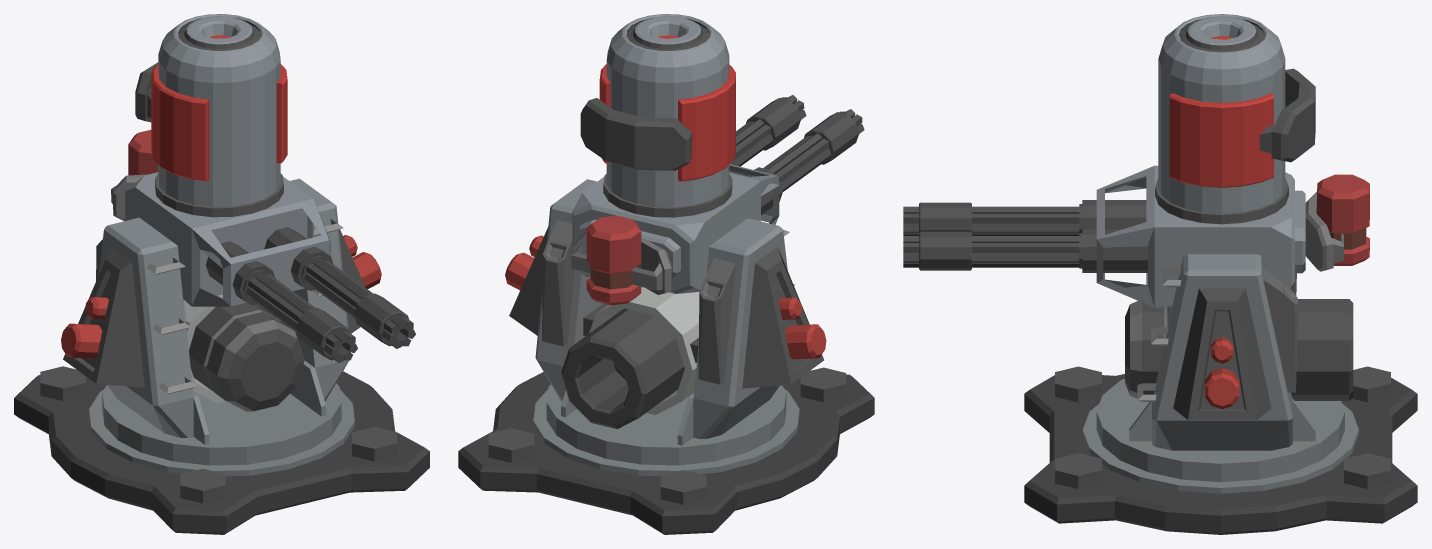
File: model_polyfleet_battleship_phalanx06.fbx
3 renders of one model, left to right at view 1: azimuth 30°, elevation 25°; view 2: azimuth 150°, elevation 25°; view 3: azimuth 270°, elevation 25°, orthographic. The views are drawn at different scales.
Parts seen in each view (by area): view 1: weapon_rotate, weapon_barrel_tilt, model_polyfleet_battleship_phalanx06, weapon_barrels1, weapon_barrels2; view 2: weapon_rotate, weapon_barrel_tilt, model_polyfleet_battleship_phalanx06, weapon_barrels1, weapon_barrels2; view 3: weapon_rotate, weapon_barrel_tilt, model_polyfleet_battleship_phalanx06, weapon_barrels2, weapon_barrels1.
Boxes of the visible parts, <box> form: weapon_rotate: <box>61,178,381,476</box>; weapon_barrel_tilt: <box>111,14,330,306</box>; model_polyfleet_battleship_phalanx06: <box>14,366,429,534</box>; weapon_barrels1: <box>205,241,357,362</box>; weapon_barrels2: <box>264,227,415,348</box>; weapon_rotate: <box>505,179,826,476</box>; weapon_barrel_tilt: <box>571,14,779,305</box>; model_polyfleet_battleship_phalanx06: <box>458,367,874,534</box>; weapon_barrels1: <box>745,109,864,215</box>; weapon_barrels2: <box>730,95,806,166</box>; weapon_rotate: <box>1082,254,1358,493</box>; weapon_barrel_tilt: <box>1096,14,1369,307</box>; model_polyfleet_battleship_phalanx06: <box>1024,366,1417,534</box>; weapon_barrels2: <box>903,229,1147,272</box>; weapon_barrels1: <box>903,200,1146,235</box>.
Size of the model in its own units: 384 by 489 by 530.
